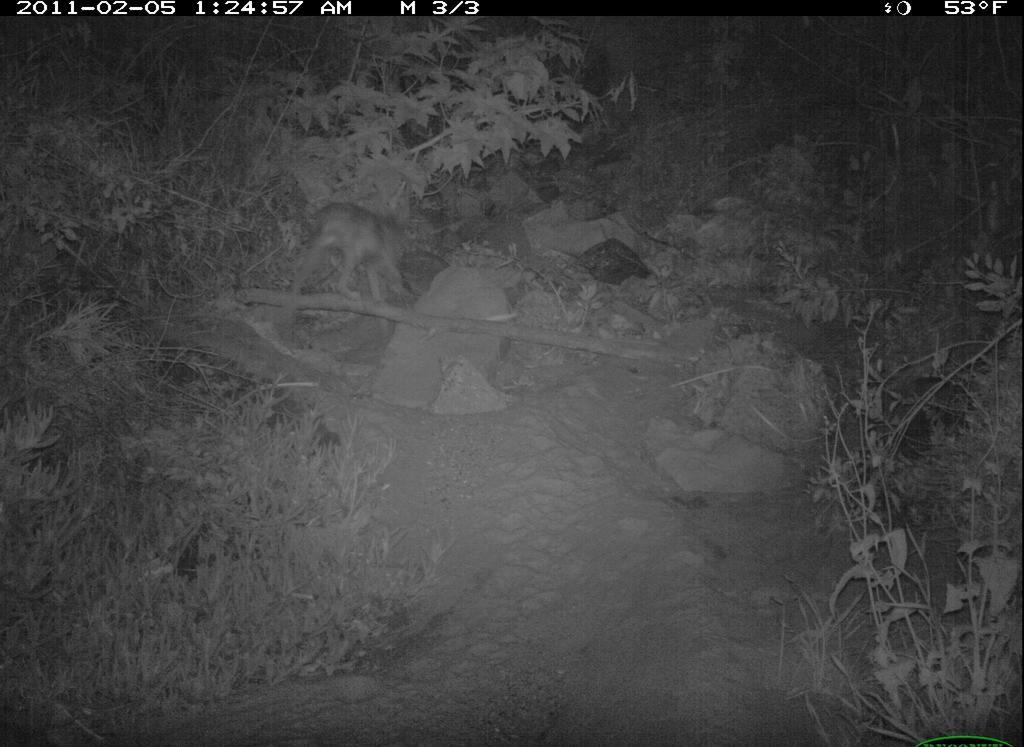coyote: (289, 194, 422, 337)
